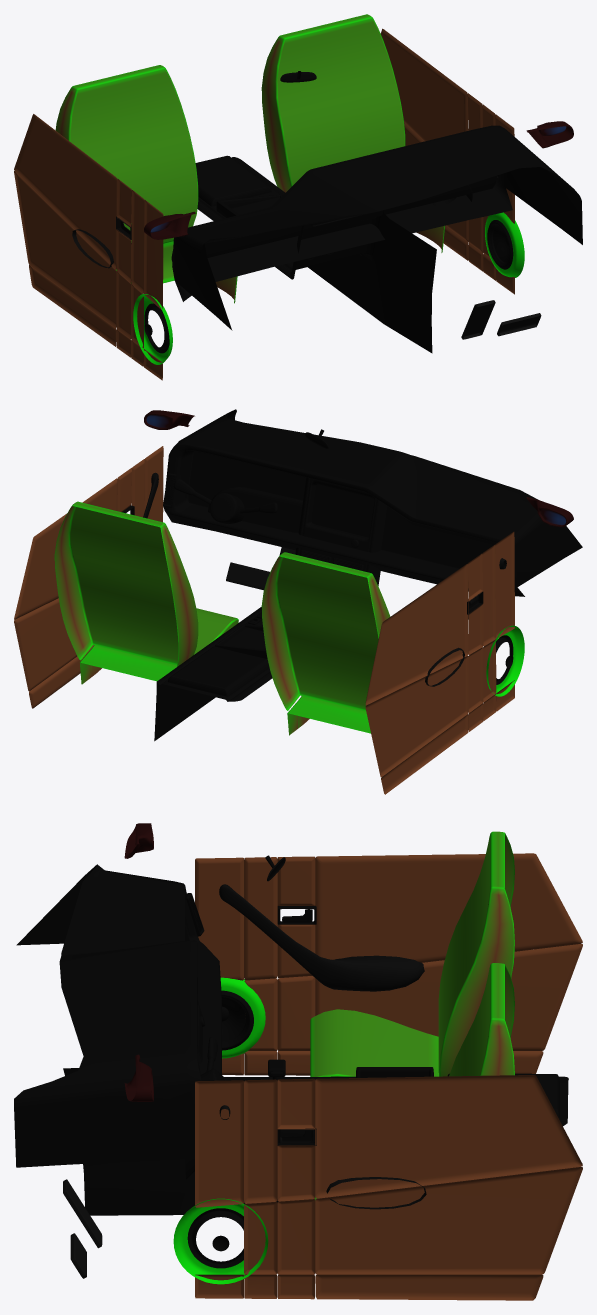
The model's file is VRCarInterior_V2_02.fbx.
3 views of the same model, one above another, from view 1: azimuth 30°, elevation 25°; view 2: azimuth 150°, elevation 25°; view 3: azimuth 270°, elevation 25° (orthographic). The views are drawn at different scales.
Visible parts, largest first — view 1: InteriorNoSW; view 2: InteriorNoSW; view 3: InteriorNoSW.
Boxes of the visible parts, x1,y1,x2,y2 form: InteriorNoSW: (14,14,582,380); InteriorNoSW: (14,409,582,794); InteriorNoSW: (14,823,582,1300).
Size of the model in its own units: 198 by 112 by 177.
